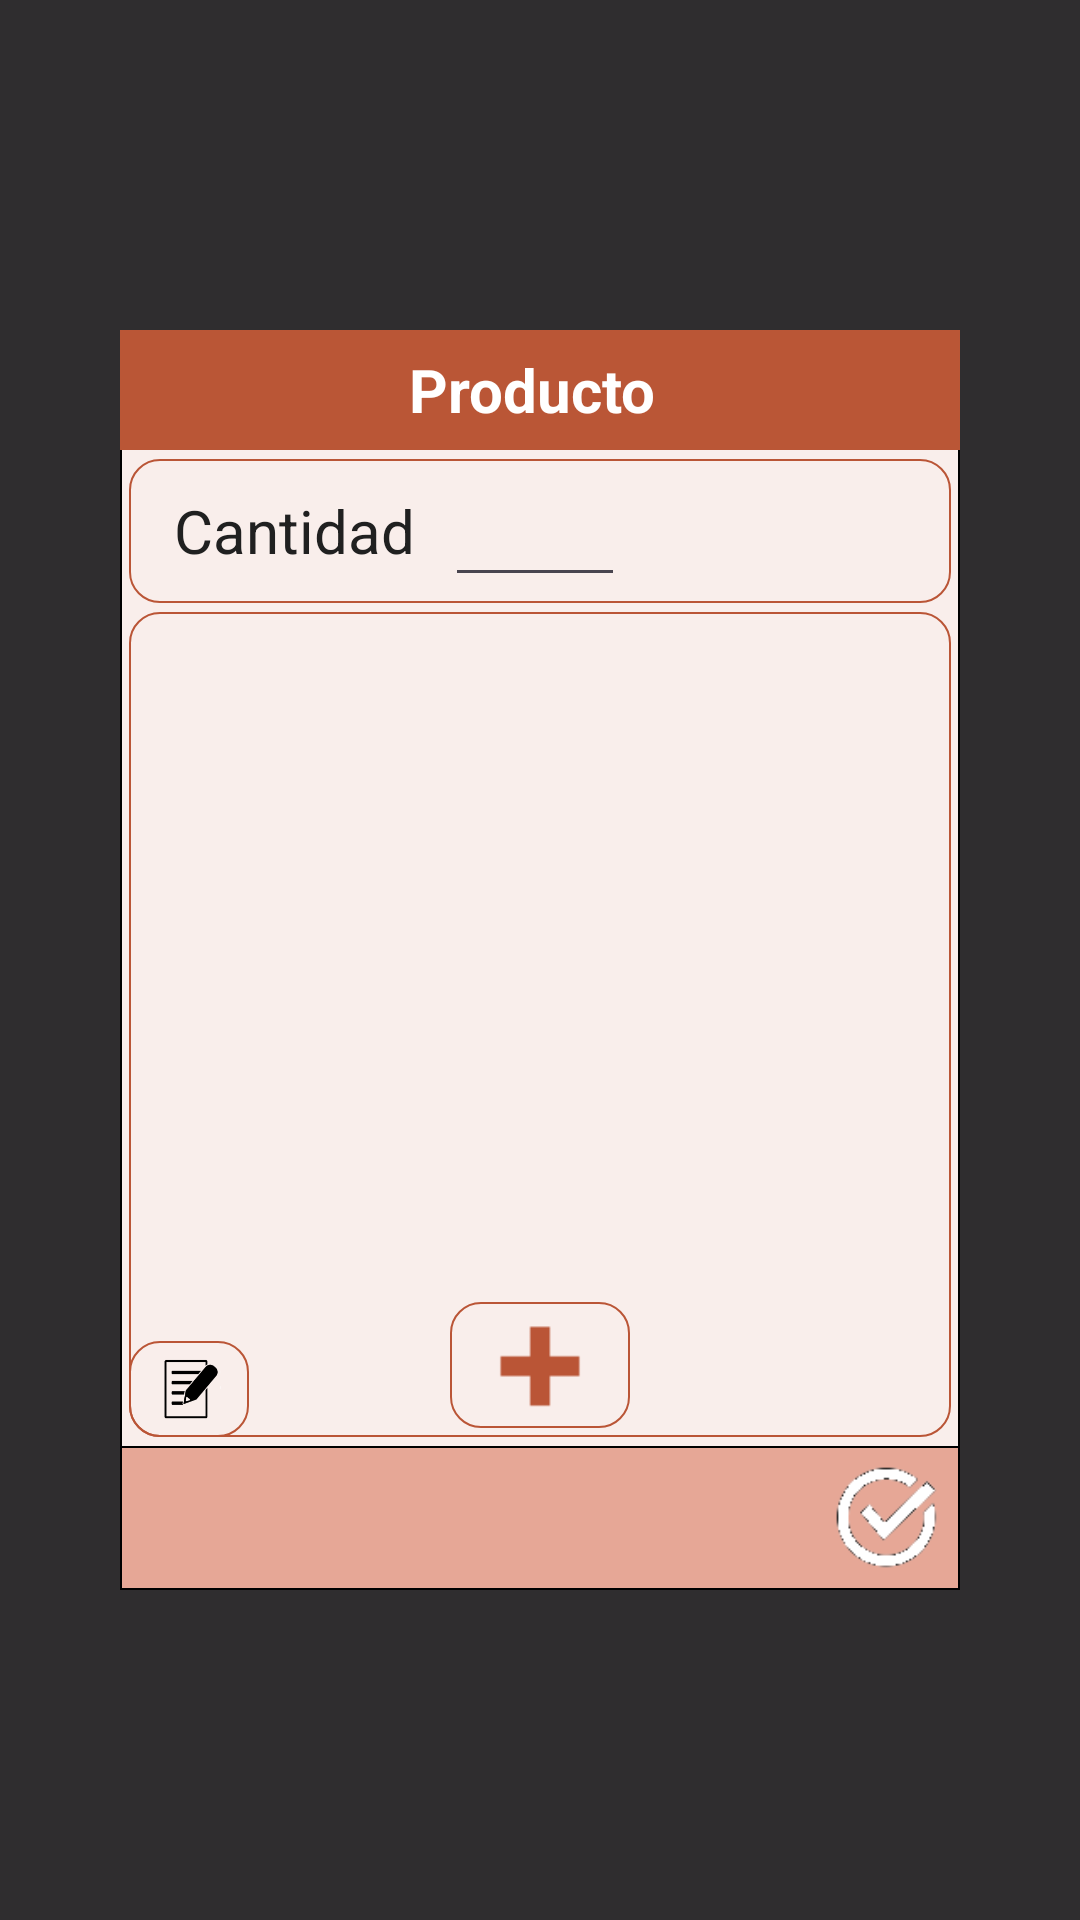

Screen size 1080px x 1920px. Icon name, then its box in pixels as (x1, y1, x2, y2):
add: (450, 1302, 630, 1428)
edit: (164, 1360, 218, 1419)
